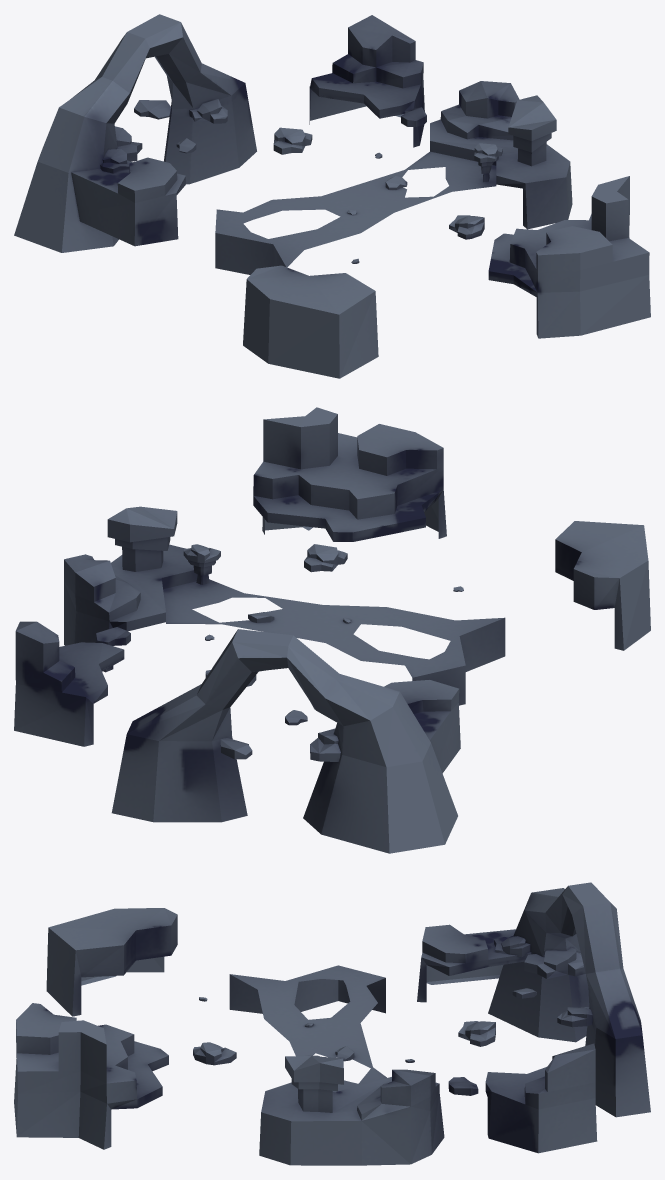
The model's file is Stone_01.FBX.
3 views of the same model, one above another, from view 1: azimuth 30°, elevation 25°; view 2: azimuth 150°, elevation 25°; view 3: azimuth 270°, elevation 25° (orthographic). The views are drawn at different scales.
Parts seen in each view (by area): view 1: Stone_01; view 2: Stone_01; view 3: Stone_01.
Boxes of the visible parts, <box> form: Stone_01: <box>14,14,650,378</box>; Stone_01: <box>14,407,650,853</box>; Stone_01: <box>14,882,650,1165</box>.
Bounding box in the file's own units: 24.91 × 9.17 × 32.
